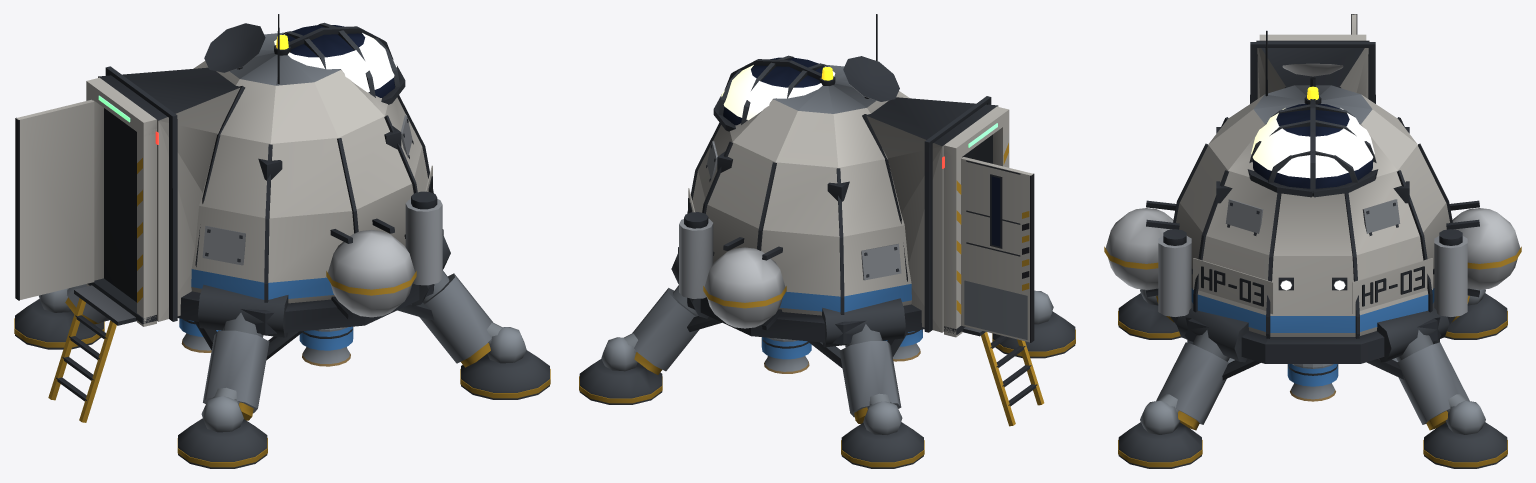
Rendered from vehicle_hopper.glb.
The picture shows the model from 3 angles, left to right: view 1: azimuth 30°, elevation 25°; view 2: azimuth 150°, elevation 25°; view 3: azimuth 270°, elevation 25°; orthographic projection. The views are drawn at different scales.
Visible parts, largest first — view 1: Body, Door_Hatch, Leg_RR, Leg_FR, Leg_RL, Ramp, Lights; view 2: Body, Door_Hatch, Leg_RL, Leg_FL, Leg_RR, Lights, Ramp; view 3: Body, Leg_FR, Leg_FL, Lights, Leg_RL, Leg_RR.
Part boxes in pixels (x1,y1,x2,y2): Body: [74, 14, 443, 366]; Door_Hatch: [15, 99, 94, 300]; Leg_RR: [177, 284, 303, 468]; Leg_FR: [397, 236, 550, 399]; Leg_RL: [14, 284, 109, 349]; Ramp: [48, 298, 116, 422]; Lights: [274, 33, 396, 92]; Body: [678, 14, 1009, 373]; Door_Hatch: [961, 157, 1034, 342]; Leg_RL: [808, 298, 924, 468]; Leg_FL: [579, 253, 721, 404]; Leg_RR: [992, 290, 1075, 358]; Lights: [721, 65, 835, 120]; Ramp: [981, 332, 1044, 426]; Body: [1104, 30, 1521, 401]; Leg_FR: [1118, 302, 1260, 468]; Leg_FL: [1366, 302, 1507, 468]; Lights: [1251, 108, 1374, 290]; Leg_RL: [1444, 288, 1507, 339]; Leg_RR: [1118, 288, 1181, 339].
Bounding box in the file's own units: 4.45 × 3.71 × 4.06.
